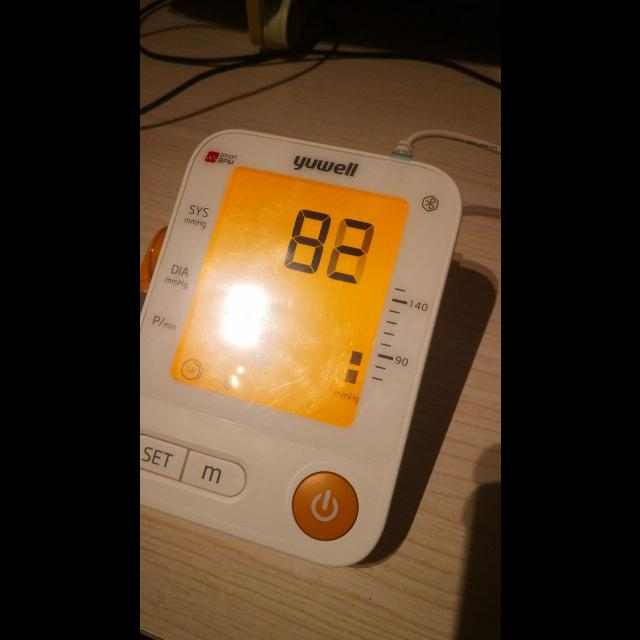Blood-Pressure-Monitor: (140, 126, 462, 570)
